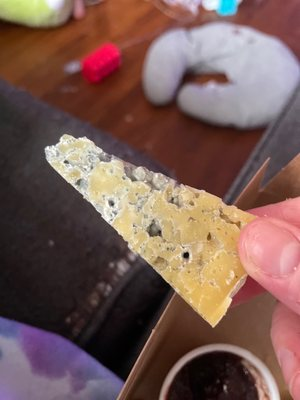sandwich: (222, 80, 300, 210)
